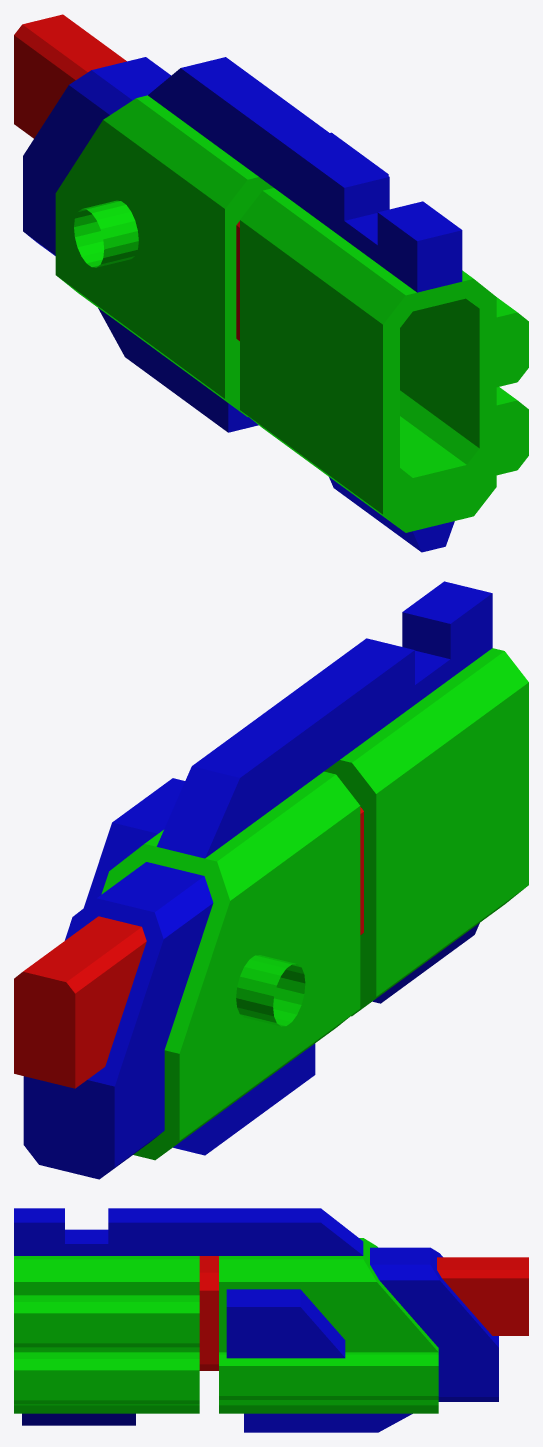
File: WeaponBot_Phaser_LVL2.FBX
The picture shows the model from 3 angles, top to bottom: view 1: azimuth 30°, elevation 25°; view 2: azimuth 150°, elevation 25°; view 3: azimuth 270°, elevation 25°; orthographic projection. The views are drawn at different scales.
Visible parts, largest first — view 1: WeaponBot_Phaser_LVL2; view 2: WeaponBot_Phaser_LVL2; view 3: WeaponBot_Phaser_LVL2.
Part boxes in pixels (bbox=[...]): WeaponBot_Phaser_LVL2: bbox=[14, 14, 528, 552]; WeaponBot_Phaser_LVL2: bbox=[14, 581, 528, 1179]; WeaponBot_Phaser_LVL2: bbox=[14, 1208, 528, 1432].
Bounding box in the file's own units: 29.11 × 43.39 × 98.01.
